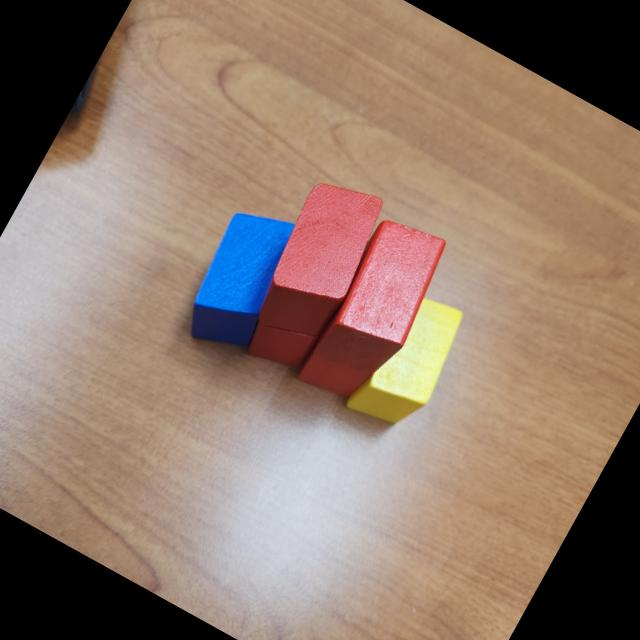blue: (170, 196, 312, 366)
red: (242, 166, 396, 356), (306, 207, 457, 390), (241, 304, 322, 382), (294, 342, 372, 410)
yellow: (344, 284, 476, 442)
